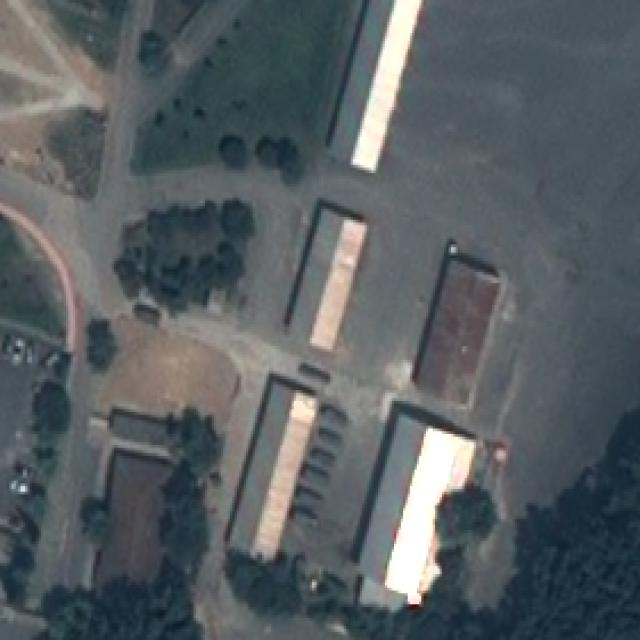Batiment: (354, 403, 478, 607), (226, 374, 319, 560), (329, 0, 421, 171), (412, 240, 501, 406), (285, 200, 368, 350), (95, 451, 169, 587), (110, 407, 165, 444)
